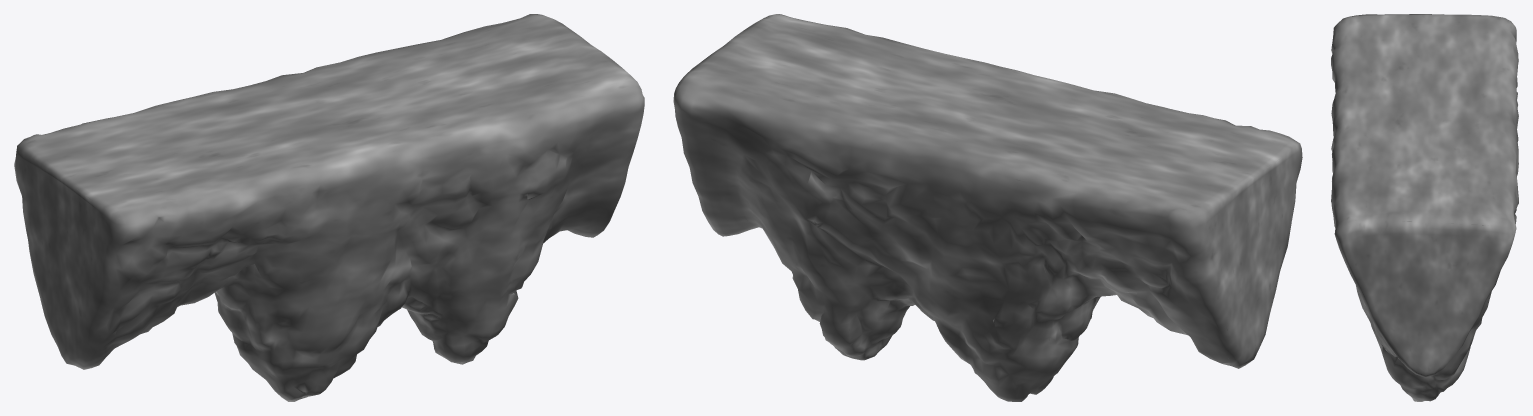
The model's file is Main Rock 4.fbx.
The picture shows the model from 3 angles, left to right: view 1: azimuth 30°, elevation 25°; view 2: azimuth 150°, elevation 25°; view 3: azimuth 270°, elevation 25°; orthographic projection. The views are drawn at different scales.
Visible parts, largest first — view 1: Mmain Rock 4; view 2: Mmain Rock 4; view 3: Mmain Rock 4.
Part boxes in pixels (x1=…): Mmain Rock 4: x1=14, y1=14, x2=644, y2=401; Mmain Rock 4: x1=673, y1=14, x2=1302, y2=401; Mmain Rock 4: x1=1331, y1=14, x2=1518, y2=401.
Bounding box in the file's own units: 488 × 251 × 181.
